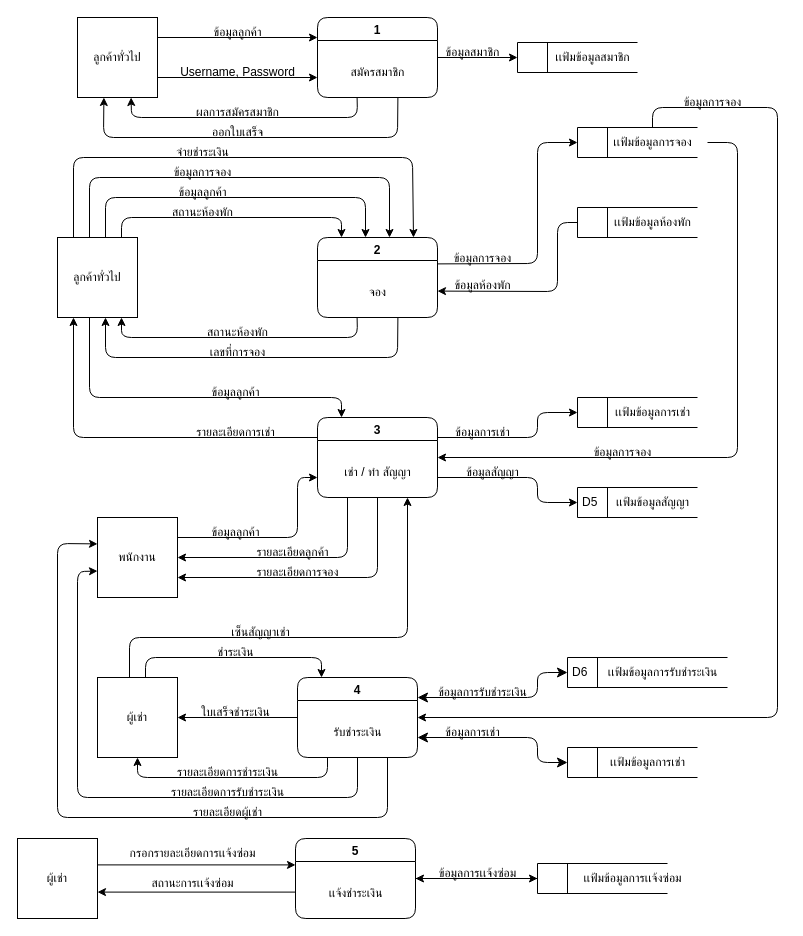
This 803x936 diagram has some shape labels left out. The shapes that lost their labels are listed below. From the top down, each one's box as (x1, y1, x2, y2) in pixels, then its label:
(516, 42, 638, 72): D1
(576, 126, 698, 158): D2
(576, 206, 698, 238): D3
(576, 396, 698, 428): D4
(566, 746, 698, 778): D7
(536, 862, 668, 894): D8
